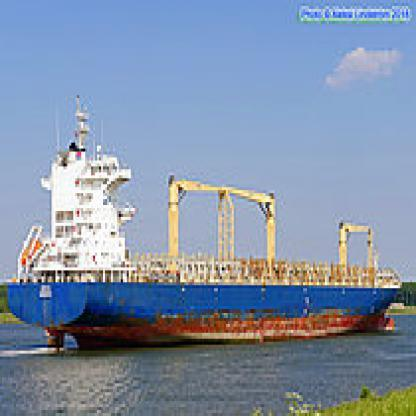Container Ship: (4, 93, 402, 350)
